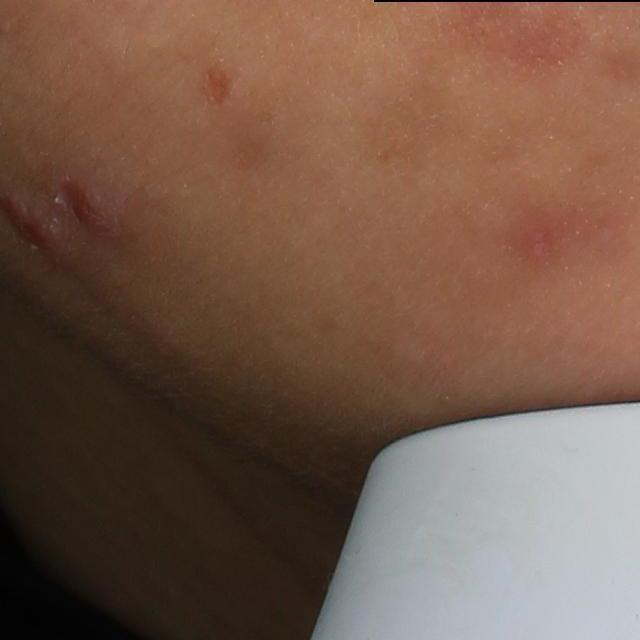papule: (62, 178, 113, 234)
